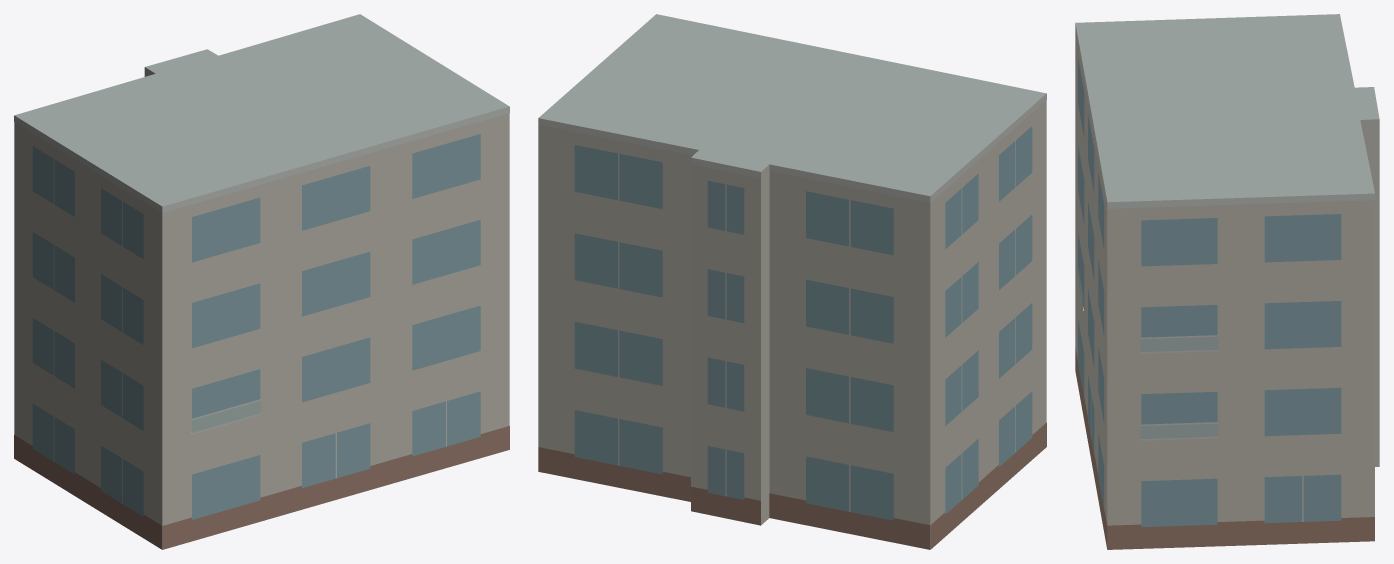
Rendered from survey-upis-32697985.glb.
3 renders of one model, left to right at view 1: azimuth 30°, elevation 25°; view 2: azimuth 150°, elevation 25°; view 3: azimuth 270°, elevation 25°, orthographic. The views are drawn at different scales.
Visible parts, largest first — view 1: survey-upis-32697985.tmp; view 2: survey-upis-32697985.tmp; view 3: survey-upis-32697985.tmp.
Part boxes in pixels (box(x1,y1,x2,y2)): survey-upis-32697985.tmp: box(14, 14, 509, 549); survey-upis-32697985.tmp: box(538, 14, 1046, 549); survey-upis-32697985.tmp: box(1075, 14, 1379, 549).
Size of the model in its own units: 15.1 by 13 by 10.32.
